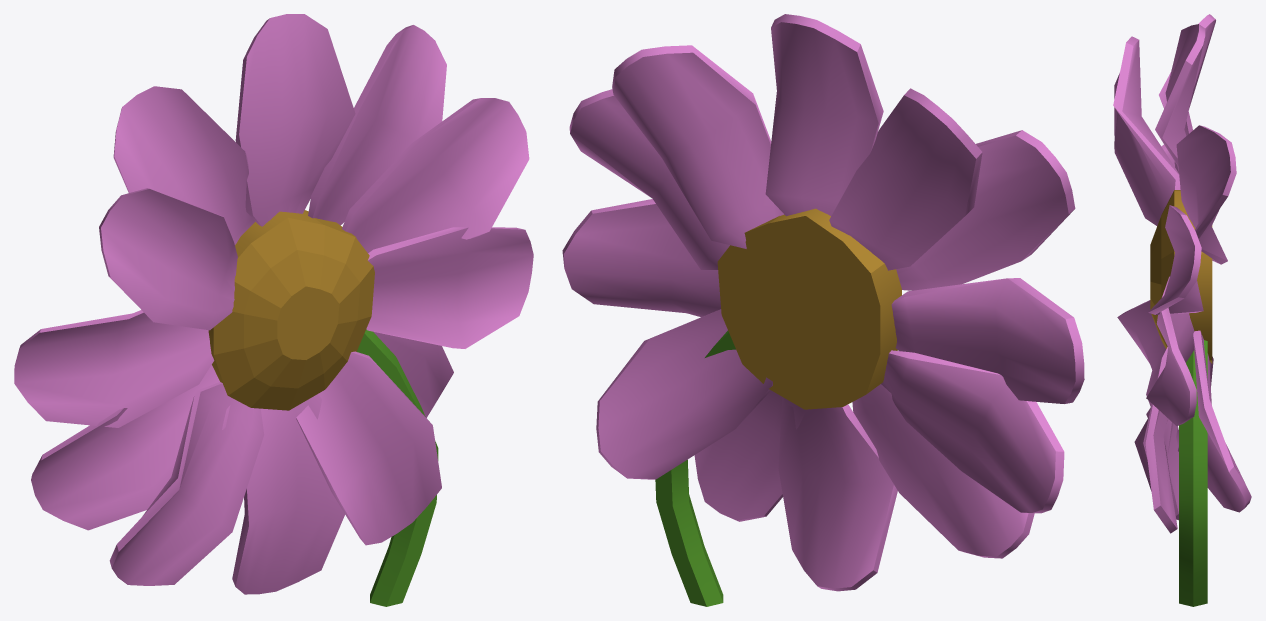
Rendered from Flower.fbx.
3 renders of one model, left to right at view 1: azimuth 30°, elevation 25°; view 2: azimuth 150°, elevation 25°; view 3: azimuth 270°, elevation 25°, orthographic. The views are drawn at different scales.
Parts seen in each view (by area): view 1: polySurface10; view 2: polySurface10; view 3: polySurface10.
Boxes of the visible parts, <box> form: polySurface10: <box>14,14,533,606</box>; polySurface10: <box>562,14,1084,606</box>; polySurface10: <box>1113,14,1251,606</box>.
Size of the model in its own units: 12.03 by 13.41 by 3.19.
